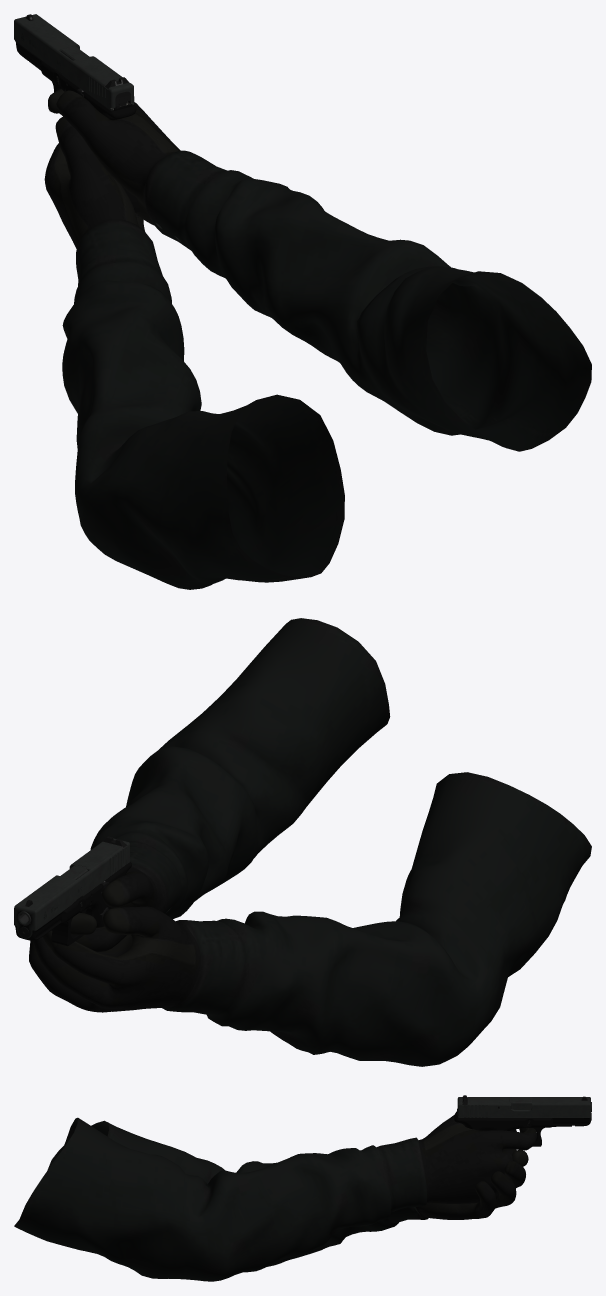
Rendered from weapon_pistol.glb.
3 renders of one model, top to bottom at view 1: azimuth 30°, elevation 25°; view 2: azimuth 150°, elevation 25°; view 3: azimuth 270°, elevation 25°, orthographic. The views are drawn at different scales.
Visible parts, largest first — view 1: Object_86_hero, g17_slide_07_Slide_2k_0_hero, g17_base_00_Frame_2k_0_hero; view 2: Object_86_hero, g17_slide_07_Slide_2k_0_hero, g17_base_00_Frame_2k_0_hero; view 3: Object_86_hero, g17_slide_07_Slide_2k_0_hero, g17_base_00_Frame_2k_0_hero, g17_base_01_Barrel_1k_0_hero.
Boxes of the visible parts, x1=… form: Object_86_hero: x1=44, y1=89, x2=591, y2=589; g17_slide_07_Slide_2k_0_hero: x1=14, y1=14, x2=134, y2=110; g17_base_00_Frame_2k_0_hero: x1=15, y1=41, x2=139, y2=212; Object_86_hero: x1=29, y1=618, x2=591, y2=1066; g17_slide_07_Slide_2k_0_hero: x1=14, y1=838, x2=130, y2=938; g17_base_00_Frame_2k_0_hero: x1=15, y1=862, x2=131, y2=946; Object_86_hero: x1=14, y1=1115, x2=537, y2=1281; g17_slide_07_Slide_2k_0_hero: x1=457, y1=1097, x2=590, y2=1121; g17_base_00_Frame_2k_0_hero: x1=454, y1=1111, x2=590, y2=1146; g17_base_01_Barrel_1k_0_hero: x1=510, y1=1098, x2=591, y2=1112.
Size of the model in its own units: 0.4171 by 0.3286 by 0.7969.
10 materials, 10 textured.
